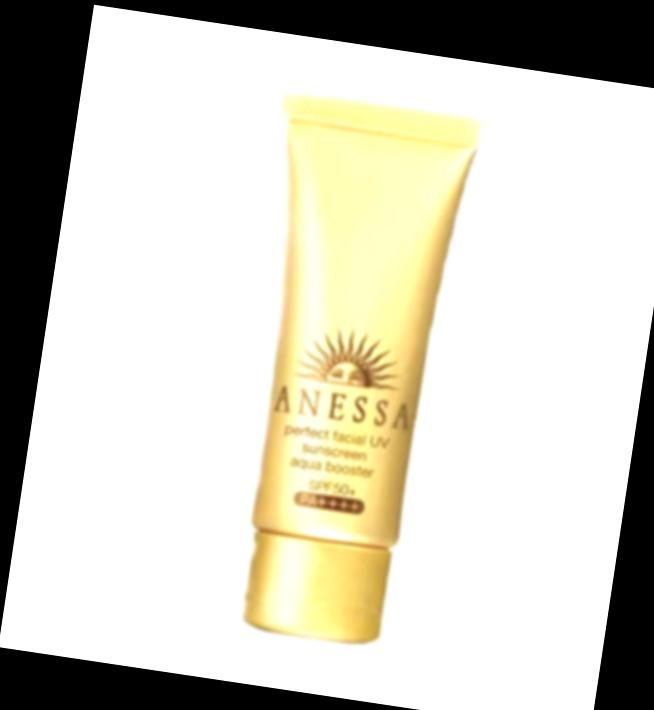cosmetic: (200, 90, 483, 652)
